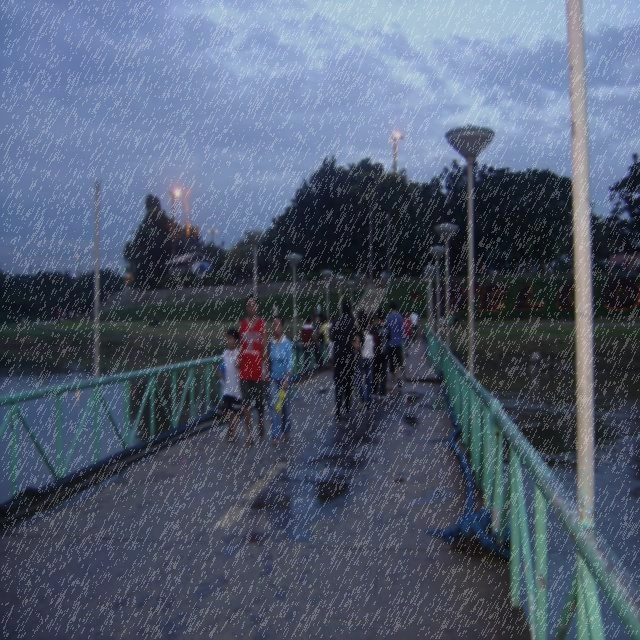pessoa: (236, 294, 270, 448), (262, 314, 294, 447), (328, 300, 358, 417), (219, 328, 242, 442), (351, 308, 375, 416), (369, 308, 392, 402), (384, 300, 408, 390), (300, 314, 314, 378), (316, 314, 334, 359), (402, 309, 412, 350), (310, 315, 324, 340), (56, 308, 78, 322), (409, 308, 418, 342), (530, 350, 544, 368), (367, 311, 377, 327), (316, 300, 322, 324), (271, 304, 279, 321), (19, 314, 26, 328), (311, 302, 317, 318), (383, 269, 389, 281)
